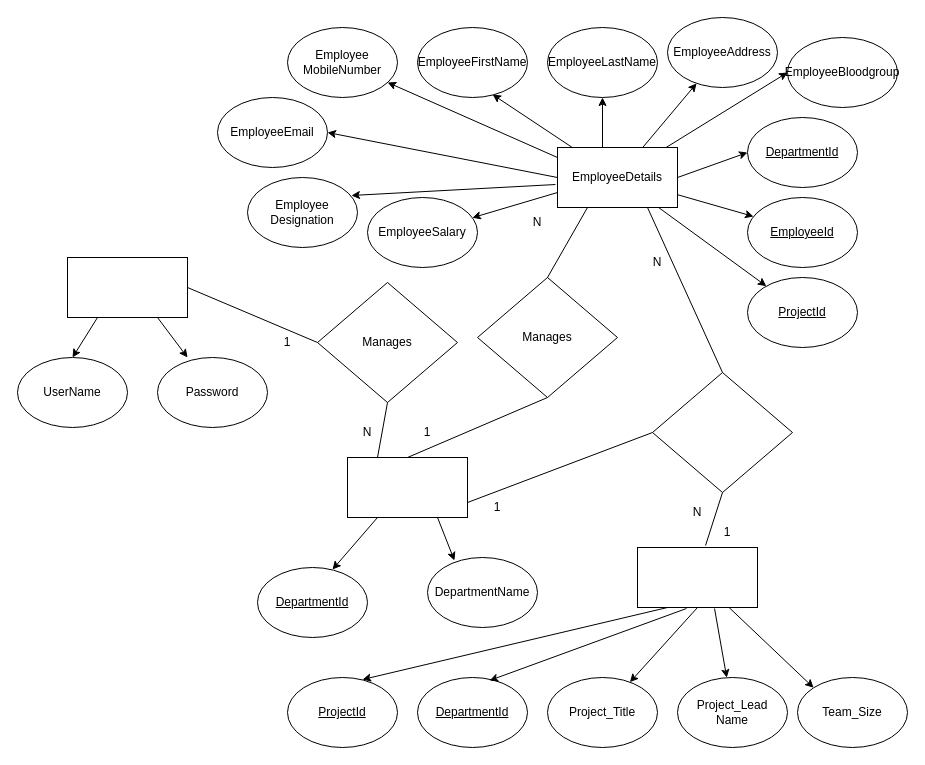
The diagram is 925 pixels wide and 765 high, and some of its shapes have lost their labels. Here are the shapes that lost their labels. From the top down, the centre of each, then its label:
(127,287): Admin
(722,432): Works
(407,487): Department
(697,577): Project
